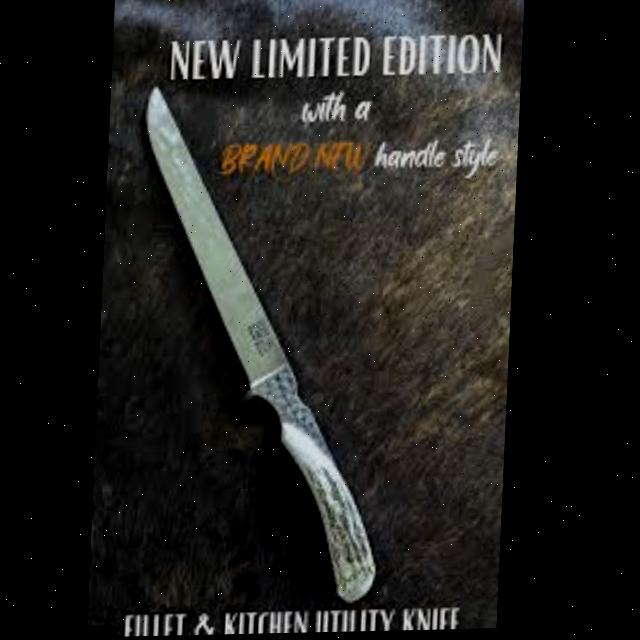Knife: (127, 79, 398, 609)
